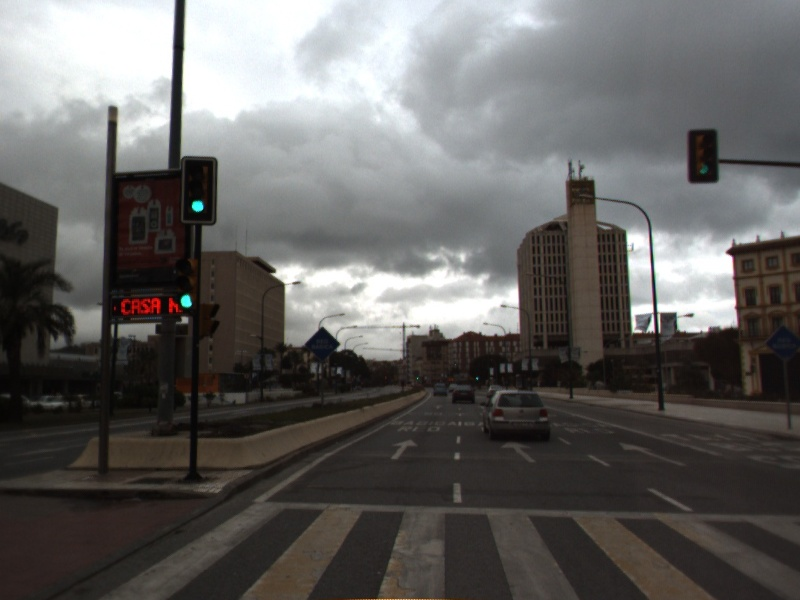STRAIGHT: (616, 440, 689, 469), (498, 439, 539, 465), (387, 437, 421, 461)
